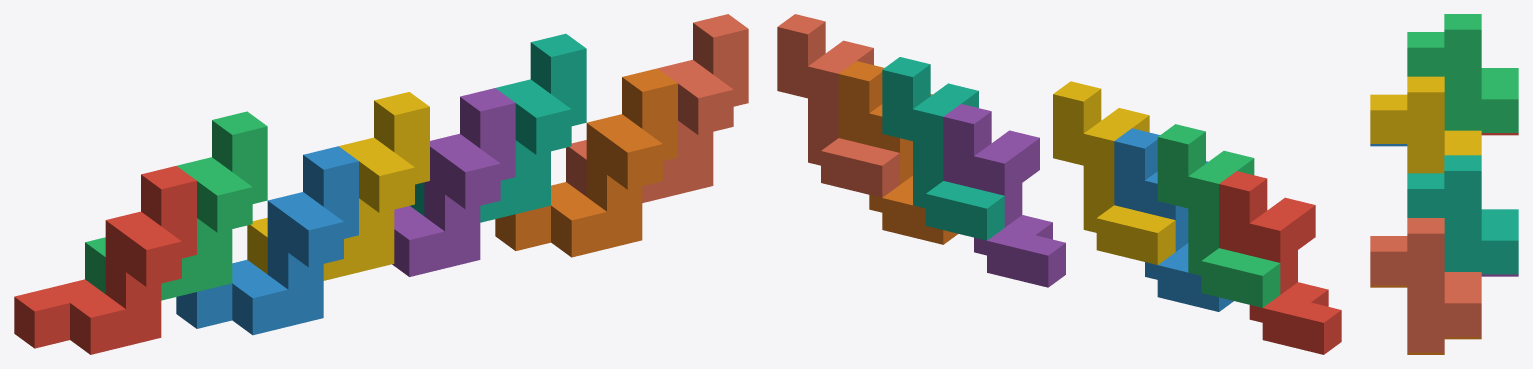
File: tiling.obj
The picture shows the model from 3 angles, left to right: view 1: azimuth 30°, elevation 25°; view 2: azimuth 150°, elevation 25°; view 3: azimuth 270°, elevation 25°; orthographic projection. The views are drawn at different scales.
Visible parts, largest first — view 1: copy_1_domain_1, copy_1_domain_2, copy_1_domain_6, copy_1_domain_5, copy_1_domain_3, copy_1_domain_8, copy_1_domain_4, copy_1_domain_7; view 2: copy_1_domain_1, copy_1_domain_5, copy_1_domain_4, copy_1_domain_3, copy_1_domain_7, copy_1_domain_8, copy_1_domain_6, copy_1_domain_2; view 3: copy_1_domain_8, copy_1_domain_7, copy_1_domain_3, copy_1_domain_4, copy_1_domain_6.
Boxes of the visible parts, left/top/right/bottom form: copy_1_domain_1: left=14, top=166, right=196, bottom=354; copy_1_domain_2: left=176, top=146, right=358, bottom=335; copy_1_domain_6: left=495, top=68, right=677, bottom=257; copy_1_domain_5: left=392, top=88, right=515, bottom=276; copy_1_domain_3: left=85, top=111, right=267, bottom=300; copy_1_domain_8: left=566, top=14, right=748, bottom=202; copy_1_domain_4: left=247, top=92, right=429, bottom=280; copy_1_domain_7: left=410, top=33, right=586, bottom=222; copy_1_domain_1: left=1219, top=171, right=1341, bottom=354; copy_1_domain_5: left=943, top=104, right=1065, bottom=287; copy_1_domain_4: left=1053, top=81, right=1175, bottom=264; copy_1_domain_3: left=1157, top=124, right=1280, bottom=307; copy_1_domain_7: left=882, top=57, right=1004, bottom=240; copy_1_domain_8: left=777, top=14, right=899, bottom=197; copy_1_domain_6: left=838, top=61, right=958, bottom=244; copy_1_domain_2: left=1114, top=128, right=1233, bottom=311; copy_1_domain_8: left=1370, top=218, right=1481, bottom=352; copy_1_domain_7: left=1407, top=155, right=1518, bottom=274; copy_1_domain_3: left=1407, top=14, right=1518, bottom=132; copy_1_domain_4: left=1370, top=76, right=1481, bottom=173; copy_1_domain_6: left=1370, top=285, right=1481, bottom=354.
Bounding box in the file's own units: 19 × 5 × 4.
